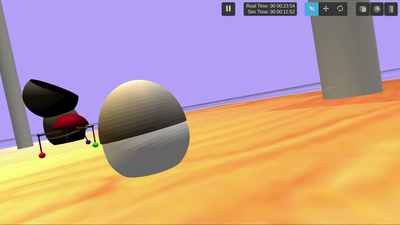mira_robot: (98, 79, 190, 178)
